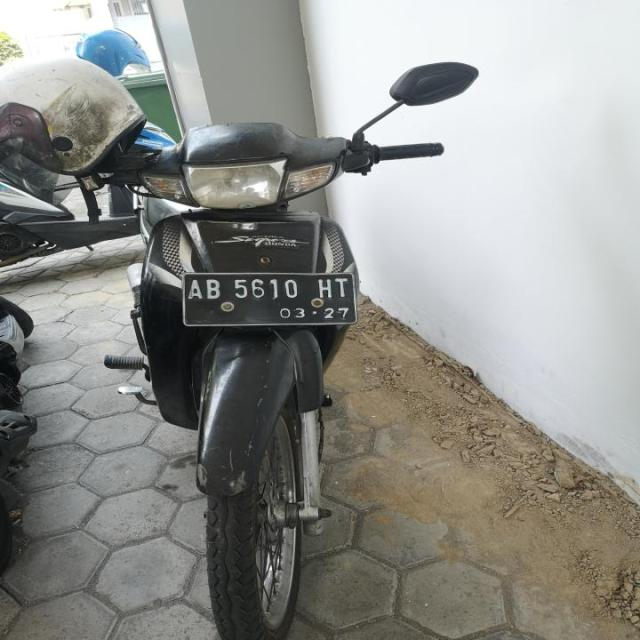License Plate: (180, 272, 360, 329)
